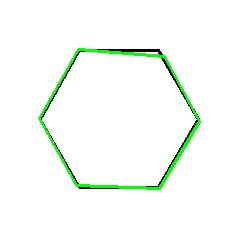line_segment: (39, 48, 200, 189)
